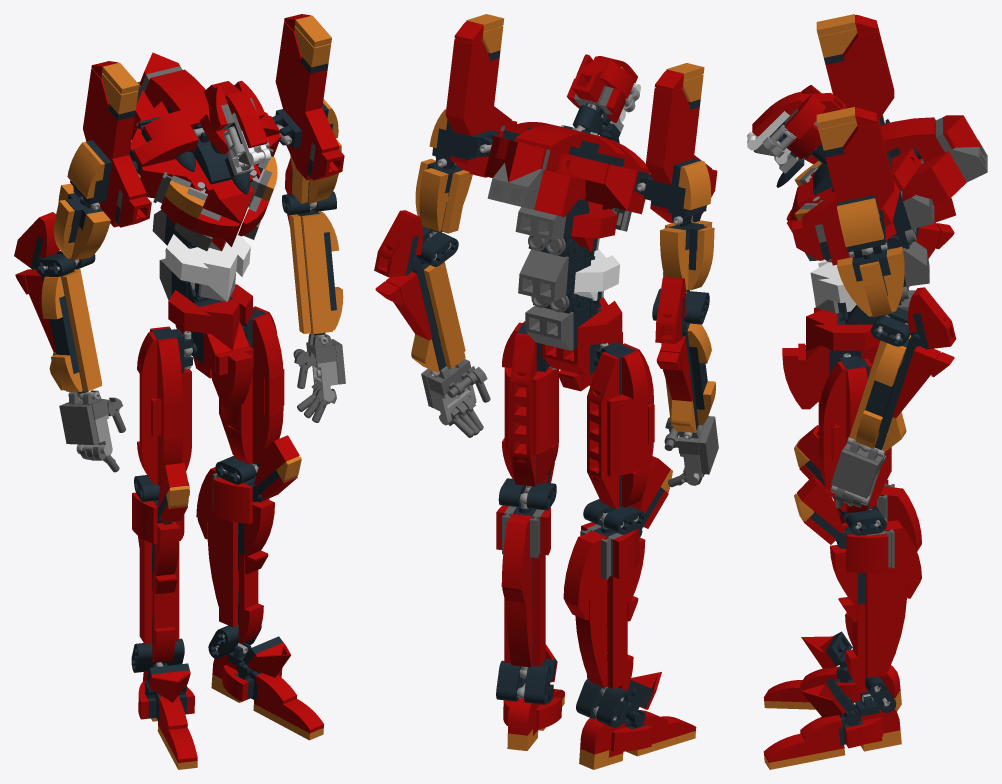
File: eva-02-evangelion.dae
The picture shows the model from 3 angles, left to right: view 1: azimuth 30°, elevation 25°; view 2: azimuth 150°, elevation 25°; view 3: azimuth 270°, elevation 25°; orthographic projection. The views are drawn at different scales.
Size of the model in its own units: 340 by 245 by 755.
